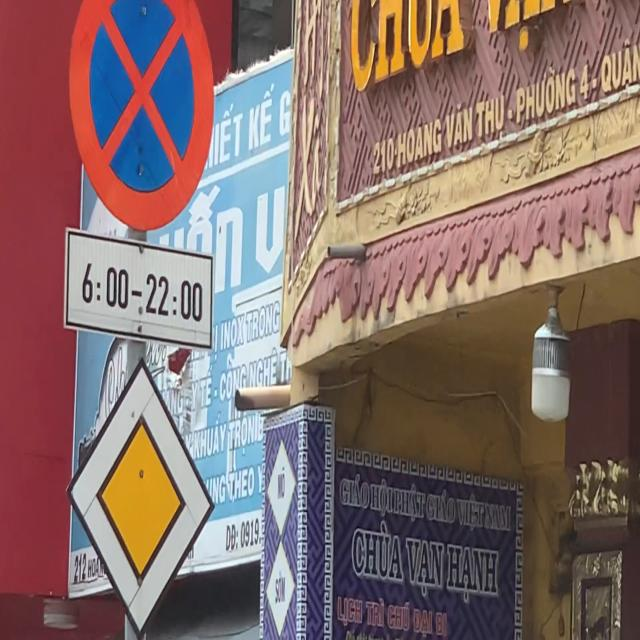Cam dung va do: (68, 0, 221, 228)
